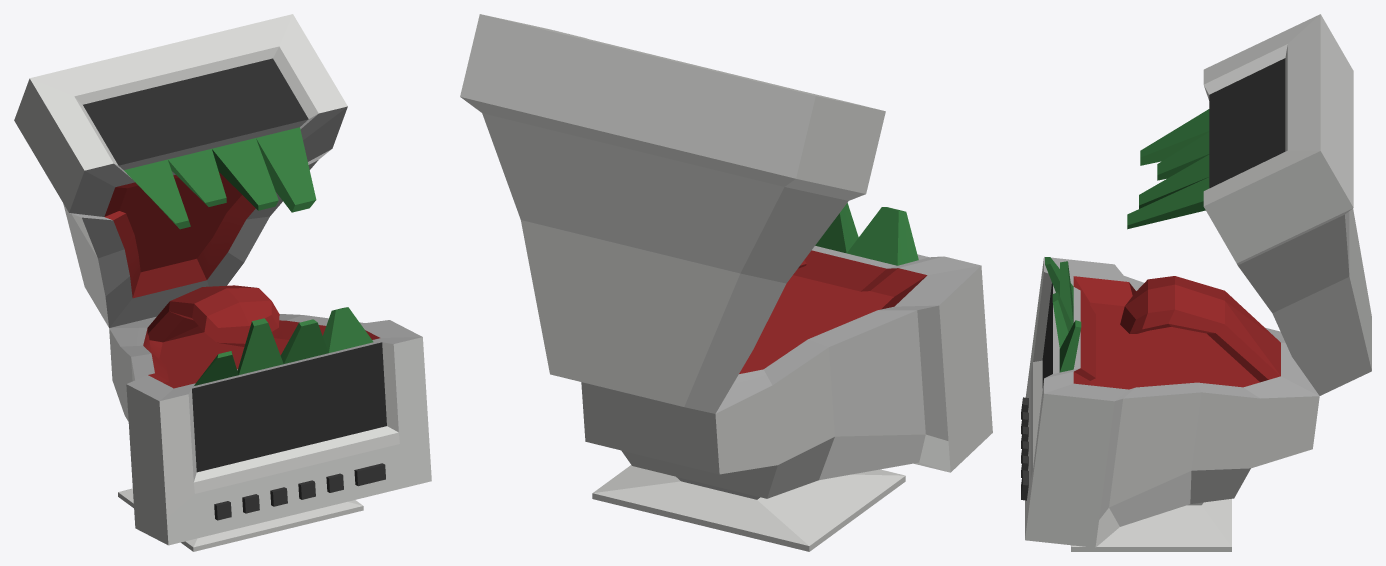
File: computerEnemy.fbx
The picture shows the model from 3 angles, left to right: view 1: azimuth 30°, elevation 25°; view 2: azimuth 150°, elevation 25°; view 3: azimuth 270°, elevation 25°; orthographic projection. The views are drawn at different scales.
Visible parts, largest first — view 1: polySurface5, polySurface4; view 2: polySurface4, polySurface5; view 3: polySurface5, polySurface4.
Boxes of the visible parts, x1,y1,x2,y2 form: polySurface5: (109,285,431,551); polySurface4: (14,14,347,327); polySurface4: (460,14,885,413); polySurface5: (581,203,992,551); polySurface5: (1021,257,1319,551); polySurface4: (1127,14,1371,395).
Bounding box in the file's own units: 201 × 292 × 218.
